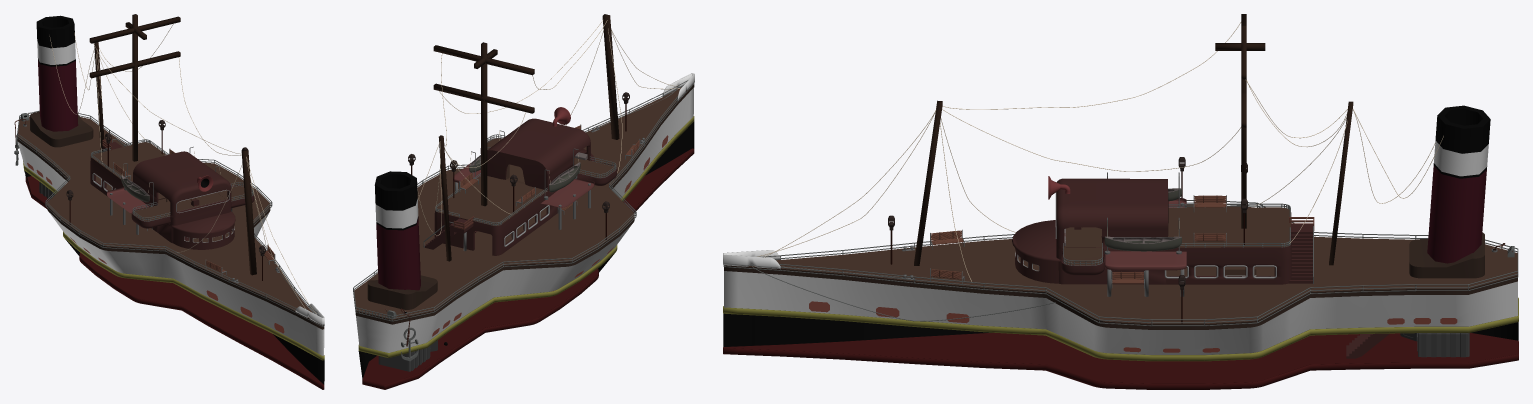
Rendered from shiptest4.glb.
3 renders of one model, left to right at view 1: azimuth 30°, elevation 25°; view 2: azimuth 150°, elevation 25°; view 3: azimuth 270°, elevation 25°, orthographic. The views are drawn at different scales.
Parts seen in each view (by area): view 1: upperdock, middlewalls, bottomdeck, captaindeck, Pipe, railingswholeship, Pole2, upperdock.001, shipmiddledetails, trosses, captaindeck.002, captaindeck.001 (+11 smaller); view 2: upperdock, middlewalls, captaindeck, bottomdeck, Pipe, captaindeck.002, Pole2, railingswholeship, shipmiddledetails, upperdock.001, pipebase, trosses (+11 smaller); view 3: middlewalls, upperdock, bottomdeck, captaindeck, Pipe, shipmiddledetails, bottomwalls, railingswholeship, upperdock.001, captaindeck.002, trosses, pipebase (+14 smaller).
Part boxes in pixels (<box>): upperdock: <box>17,116,312,318</box>; middlewalls: <box>17,142,324,355</box>; bottomdeck: <box>25,176,324,389</box>; captaindeck: <box>90,151,254,243</box>; Pipe: <box>36,15,78,131</box>; railingswholeship: <box>17,110,324,326</box>; Pole2: <box>89,14,180,161</box>; upperdock.001: <box>17,137,324,329</box>; shipmiddledetails: <box>23,161,324,360</box>; trosses: <box>49,24,316,313</box>; captaindeck.002: <box>91,142,165,181</box>; captaindeck.001: <box>134,186,252,221</box>; upperdock: <box>354,87,686,319</box>; middlewalls: <box>356,87,694,352</box>; captaindeck: <box>434,118,617,255</box>; bottomdeck: <box>362,148,694,389</box>; Pipe: <box>374,171,420,290</box>; captaindeck.002: <box>435,176,547,225</box>; Pole2: <box>433,42,534,206</box>; railingswholeship: <box>353,80,694,321</box>; shipmiddledetails: <box>358,116,694,357</box>; upperdock.001: <box>353,83,694,324</box>; pipebase: <box>367,275,437,309</box>; trosses: <box>417,20,680,235</box>; middlewalls: <box>724,271,1517,354</box>; upperdock: <box>748,204,1517,323</box>; bottomdeck: <box>723,332,1518,389</box>; captaindeck: <box>1056,178,1291,284</box>; Pipe: <box>1427,105,1490,263</box>; shipmiddledetails: <box>723,297,1518,361</box>; bottomwalls: <box>723,313,1518,346</box>; railingswholeship: <box>723,200,1518,326</box>; upperdock.001: <box>724,265,1517,329</box>; captaindeck.002: <box>1168,207,1290,247</box>; trosses: <box>757,22,1443,281</box>; pipebase: <box>1409,232,1484,278</box>.
Size of the model in its own units: 3.23 by 4.07 by 8.96.
Materials: 67 (4 with a texture image).
